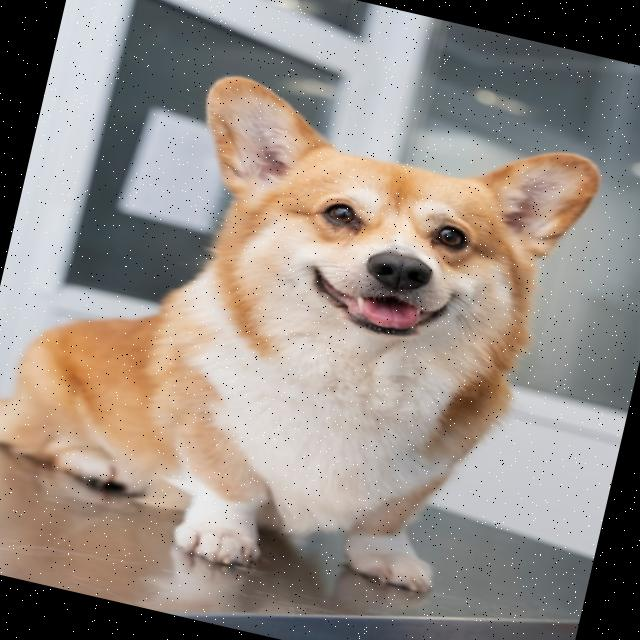Dog: (0, 32, 605, 630)
